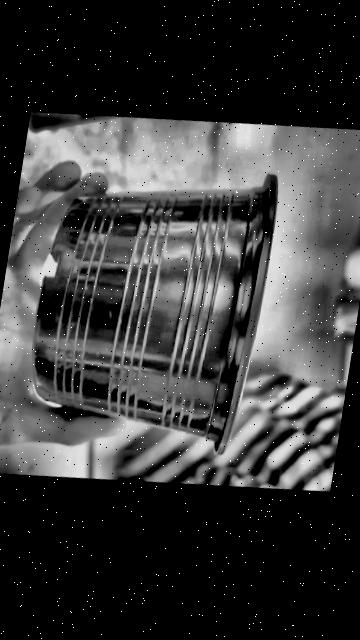pot: (33, 175, 277, 452)
